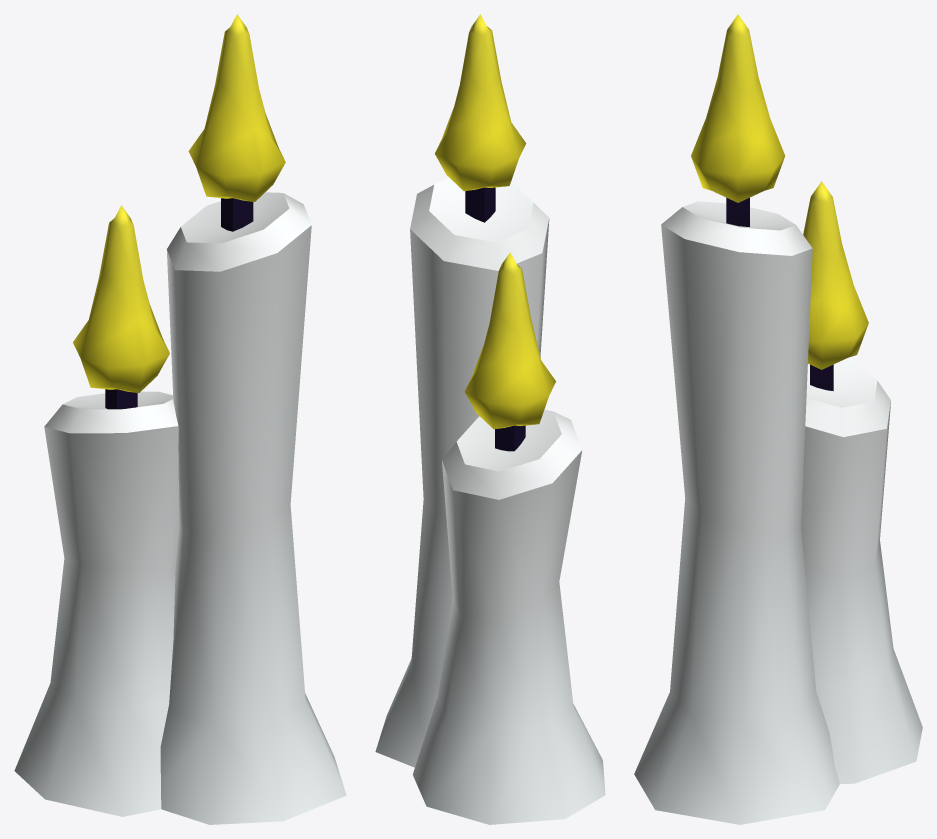
Rendered from Candle2.fbx.
3 renders of one model, left to right at view 1: azimuth 30°, elevation 25°; view 2: azimuth 150°, elevation 25°; view 3: azimuth 270°, elevation 25°, orthographic. The views are drawn at different scales.
Parts seen in each view (by area): view 1: Candle2; view 2: Candle2; view 3: Candle2.
Part boxes in pixels (bbox=[...]): Candle2: bbox=[14, 14, 346, 824]; Candle2: bbox=[375, 14, 605, 824]; Candle2: bbox=[634, 14, 922, 824].
Size of the model in its own units: 31.71 by 89.18 by 30.58.
